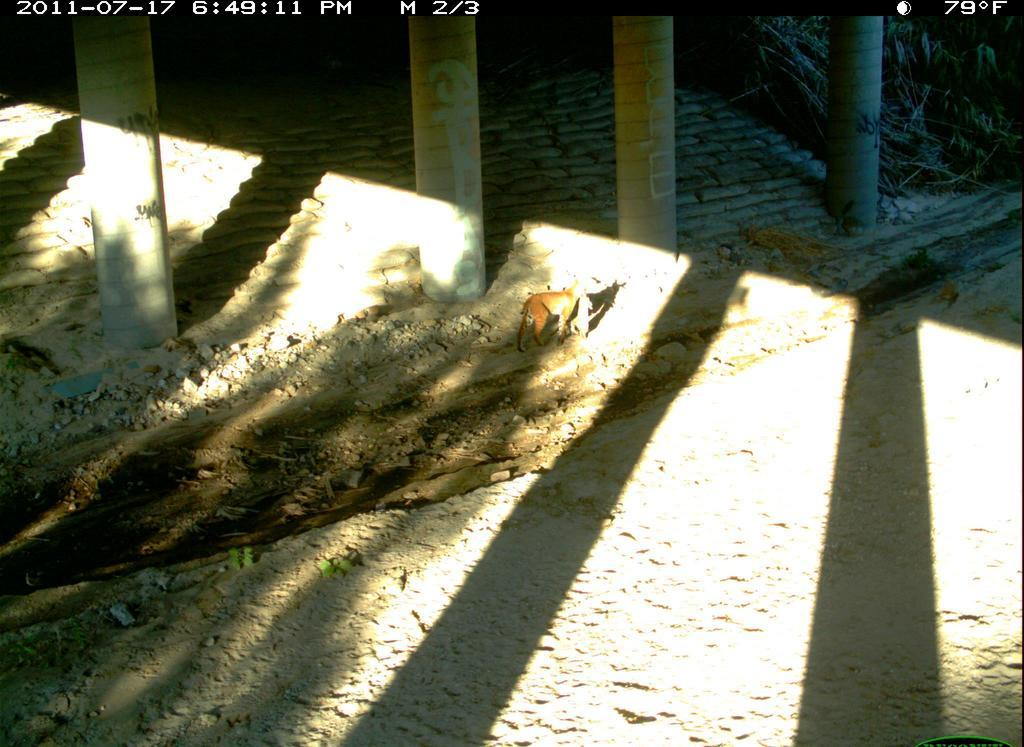bobcat: (1022, 548, 1024, 712)
